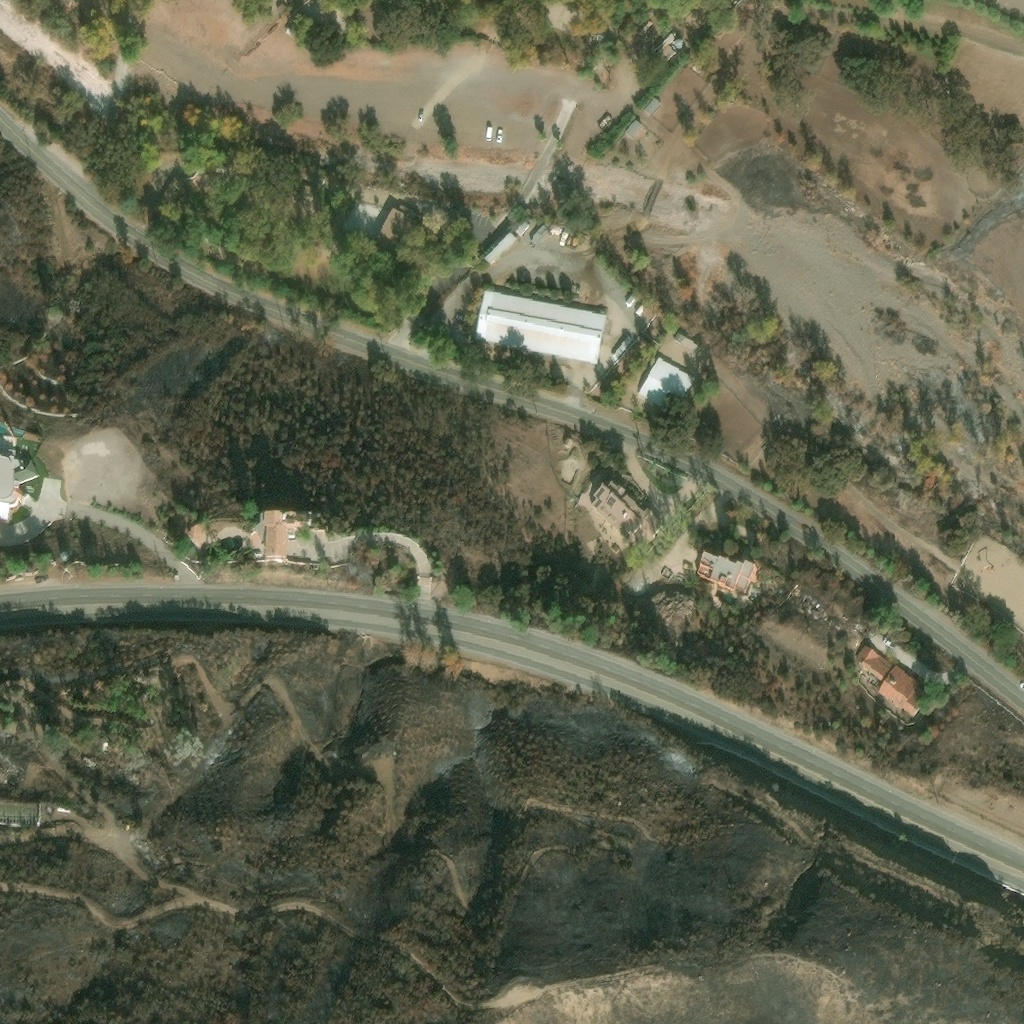0 no-damage: (472, 290, 606, 368), (856, 644, 935, 721), (592, 475, 665, 540), (637, 356, 696, 413), (0, 448, 40, 522), (698, 552, 762, 597), (375, 203, 421, 257), (254, 511, 288, 559), (483, 231, 519, 268), (657, 31, 677, 62), (673, 331, 697, 351), (187, 522, 205, 548), (625, 119, 645, 142), (643, 98, 663, 118), (530, 224, 549, 244), (516, 222, 530, 237), (674, 39, 686, 50), (639, 22, 649, 33)
1 minor-damage: (60, 552, 69, 562)
3 destroyed: (0, 800, 44, 827), (133, 836, 152, 852), (122, 769, 141, 782), (6, 766, 22, 776), (103, 741, 109, 748), (62, 809, 72, 813), (125, 825, 130, 830)
4 un-classified: (162, 173, 187, 204), (283, 514, 307, 531), (688, 166, 700, 181), (802, 597, 813, 609), (285, 28, 296, 39), (479, 25, 489, 36), (812, 608, 820, 615), (628, 47, 637, 53)
